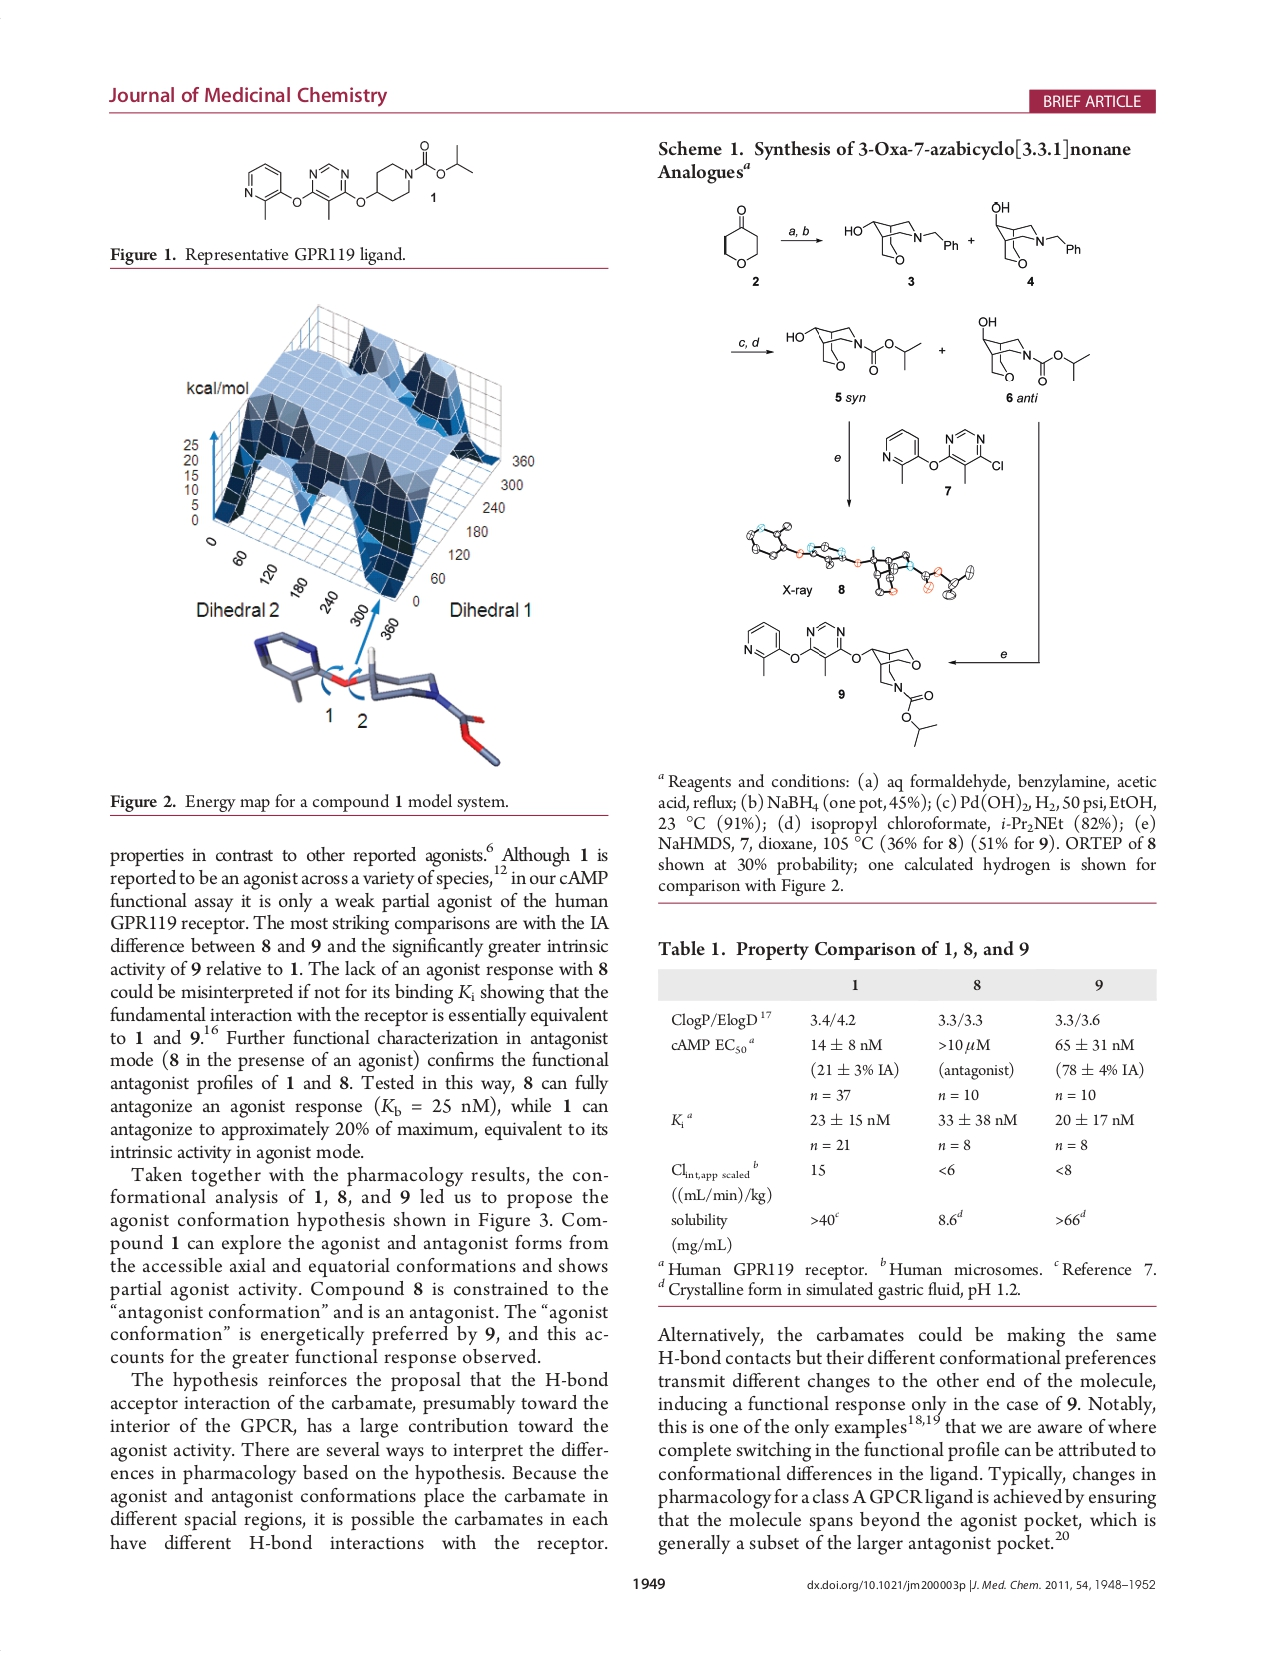exist_molecular: (739, 614, 942, 747), (239, 136, 473, 223), (973, 309, 1094, 386), (876, 424, 1009, 485), (783, 321, 927, 376), (988, 195, 1082, 273), (838, 213, 961, 269), (715, 203, 763, 271)
